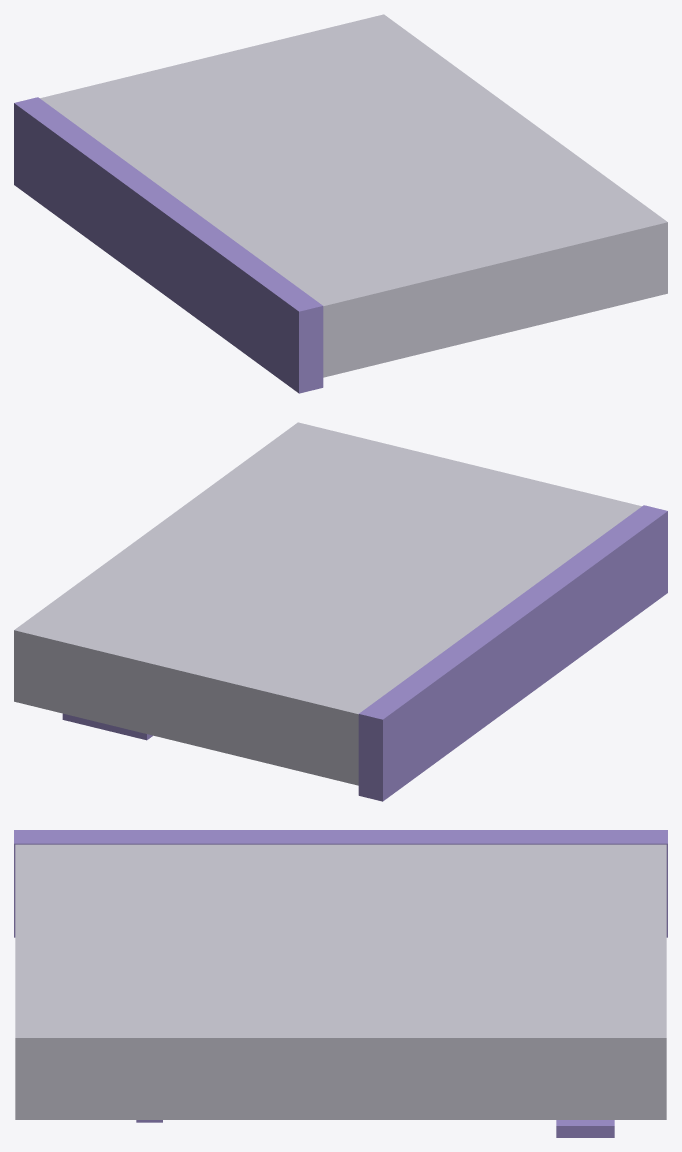
File: unityfinal.glb
3 views of the same model, one above another, from view 1: azimuth 30°, elevation 25°; view 2: azimuth 150°, elevation 25°; view 3: azimuth 270°, elevation 25° (orthographic). The views are drawn at different scales.
Parts seen in each view (by area): view 1: Unity Final carton, Unity Final spine; view 2: Unity Final carton, Unity Final spine, Unity Final edition chip; view 3: Unity Final carton, Unity Final spine, Unity Final edition chip.
Part boxes in pixels (bbox=[...]): Unity Final carton: bbox=[40, 14, 667, 377]; Unity Final spine: bbox=[14, 97, 323, 393]; Unity Final carton: bbox=[14, 422, 641, 785]; Unity Final spine: bbox=[358, 505, 667, 801]; Unity Final edition chip: bbox=[62, 713, 152, 740]; Unity Final carton: bbox=[15, 844, 666, 1119]; Unity Final spine: bbox=[14, 830, 667, 937]; Unity Final edition chip: bbox=[556, 1120, 614, 1137].
Size of the model in its own units: 1.84 by 0.4825 by 2.46.
